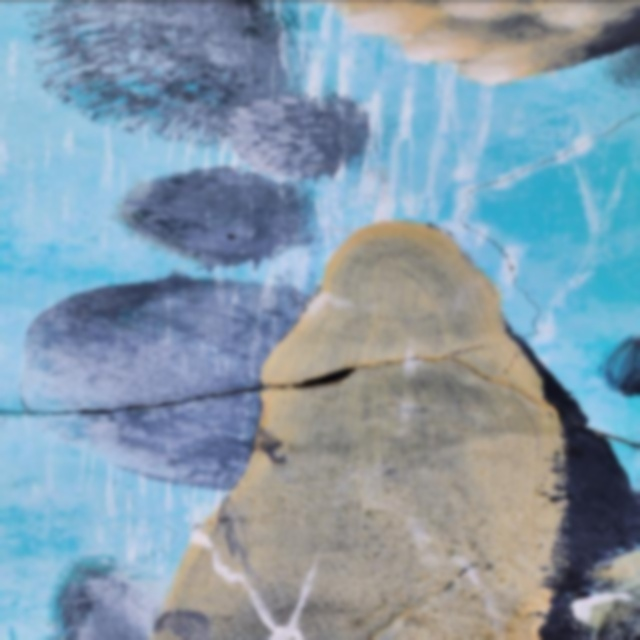SurfaceCrack: (4, 327, 618, 516)
